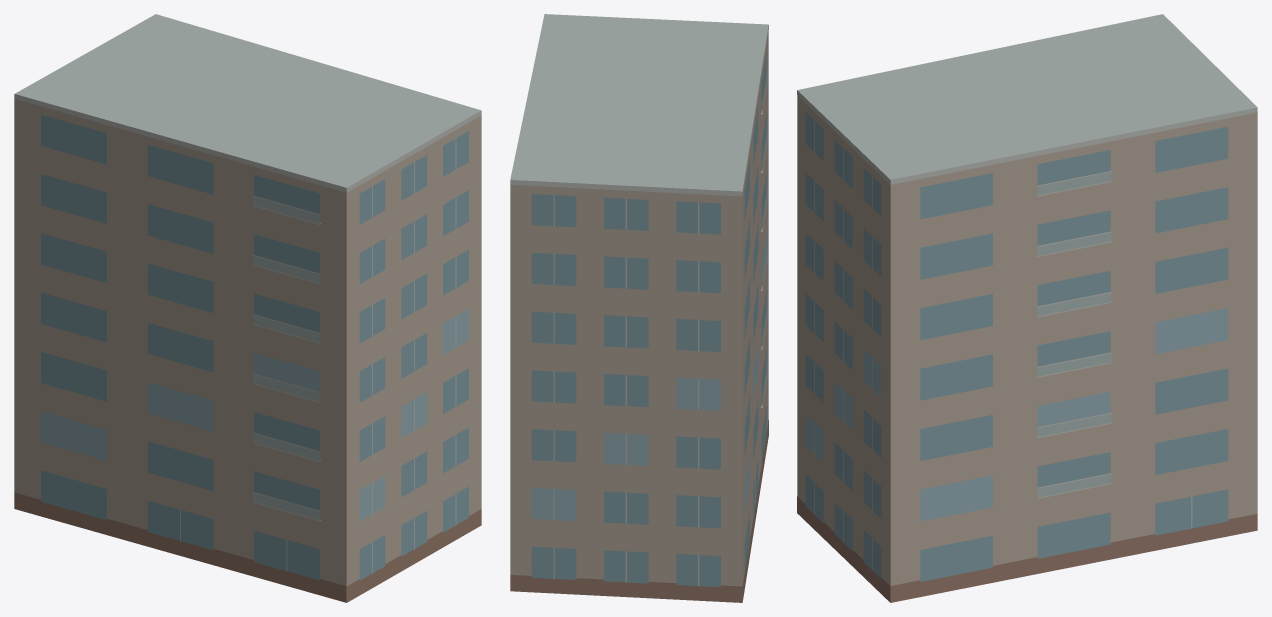
File: survey-upis-32739125.glb
3 renders of one model, left to right at view 1: azimuth 30°, elevation 25°; view 2: azimuth 150°, elevation 25°; view 3: azimuth 270°, elevation 25°, orthographic. The views are drawn at different scales.
Parts seen in each view (by area): view 1: survey-upis-32739125.tmp; view 2: survey-upis-32739125.tmp; view 3: survey-upis-32739125.tmp.
Boxes of the visible parts, <box> form: survey-upis-32739125.tmp: <box>14,14,481,602</box>; survey-upis-32739125.tmp: <box>510,14,768,602</box>; survey-upis-32739125.tmp: <box>797,14,1257,602</box>.
Bounding box in the file's own units: 17.25 × 20.5 × 20.24.
